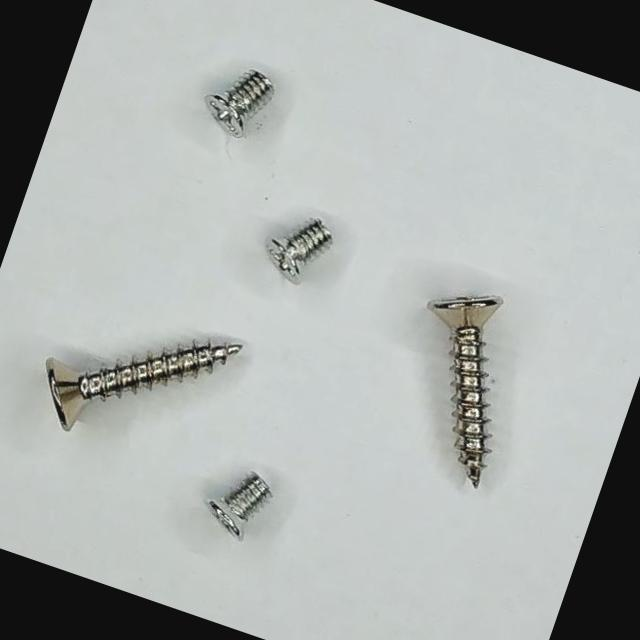Screw: (44, 343, 241, 431), (427, 296, 503, 488), (205, 69, 272, 135), (207, 474, 272, 542), (269, 220, 332, 284)
